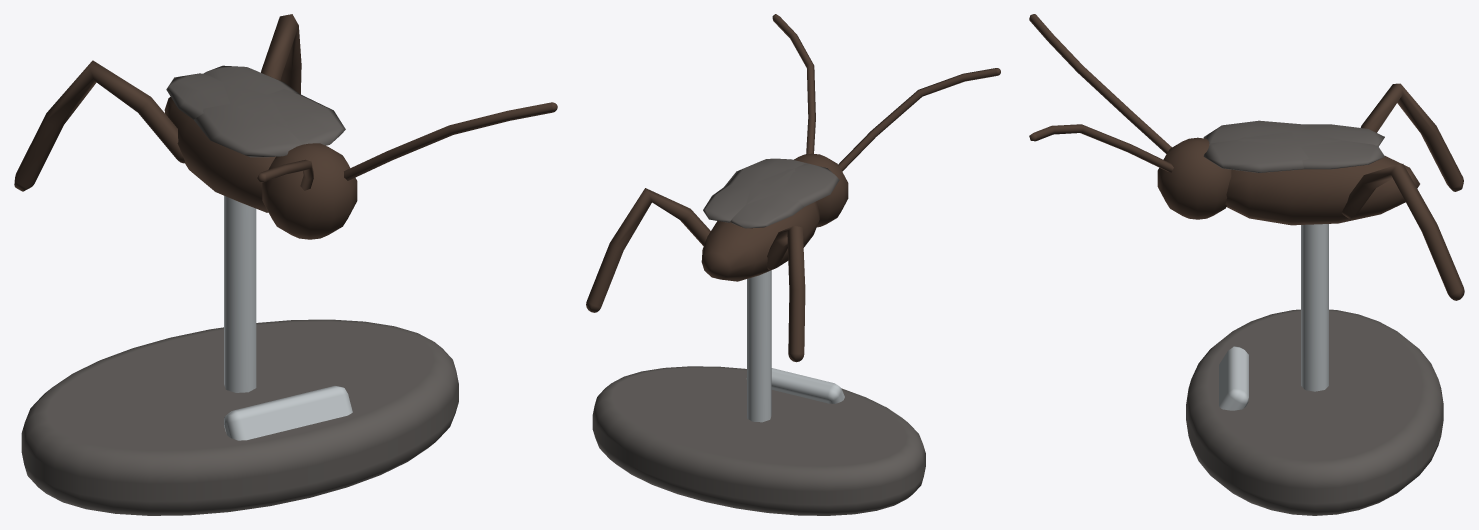
The model's file is cricket_model.glb.
The picture shows the model from 3 angles, left to right: view 1: azimuth 30°, elevation 25°; view 2: azimuth 150°, elevation 25°; view 3: azimuth 270°, elevation 25°; orthographic projection. The views are drawn at different scales.
Parts seen in each view (by area): view 1: cricket_model_mesh; view 2: cricket_model_mesh; view 3: cricket_model_mesh.
Part boxes in pixels (x1,y1,x2,y2): cricket_model_mesh: [14, 14, 557, 515]; cricket_model_mesh: [586, 14, 1000, 515]; cricket_model_mesh: [1029, 14, 1464, 515].
Size of the model in its own units: 0.34 by 0.3439 by 0.3717.
